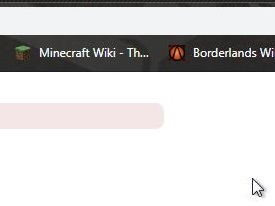cursor: (250, 176, 266, 199)
